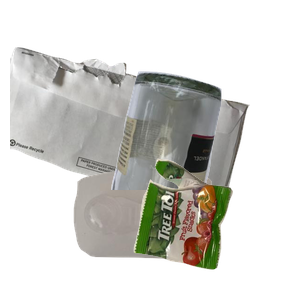glass: (109, 69, 300, 249)
paper: (10, 45, 250, 225)
plastic: (71, 169, 275, 300)
trash: (131, 156, 300, 300)
